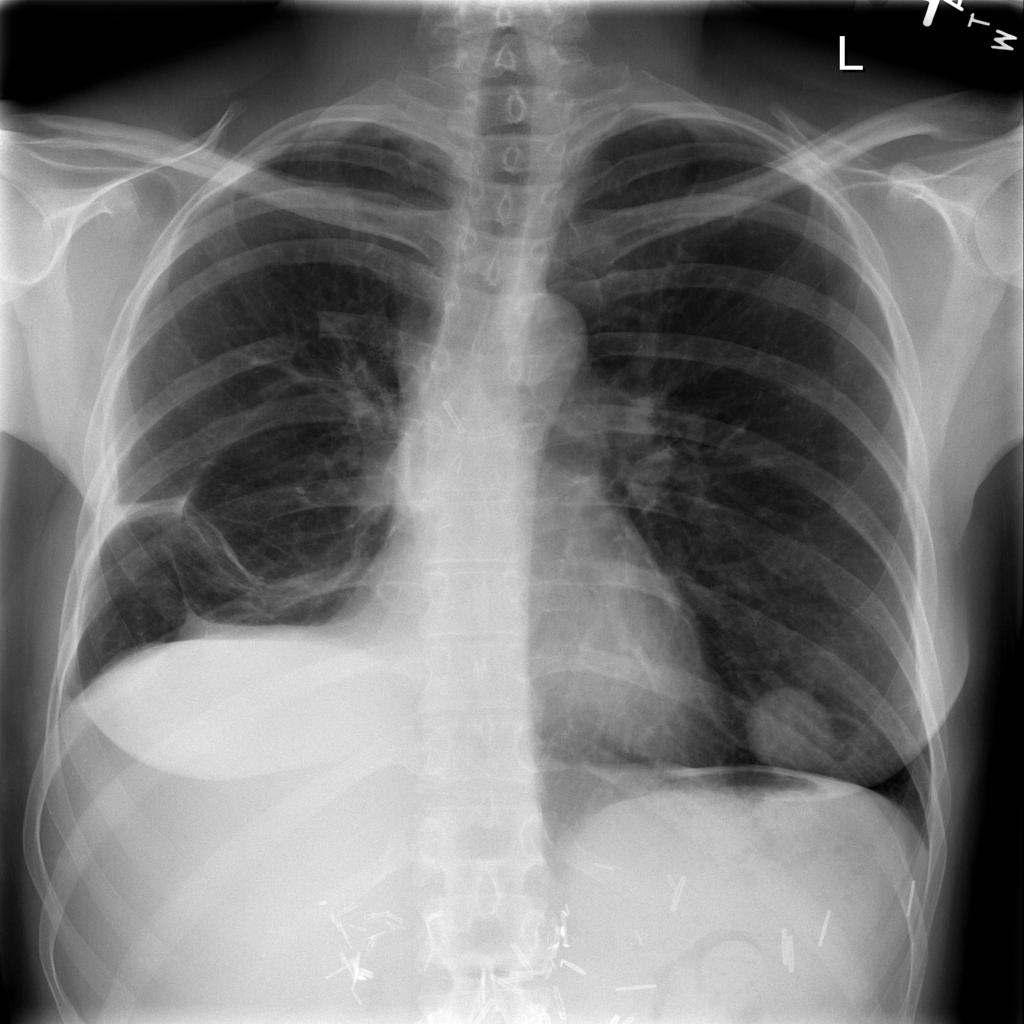nodule: (726, 676, 852, 786)
